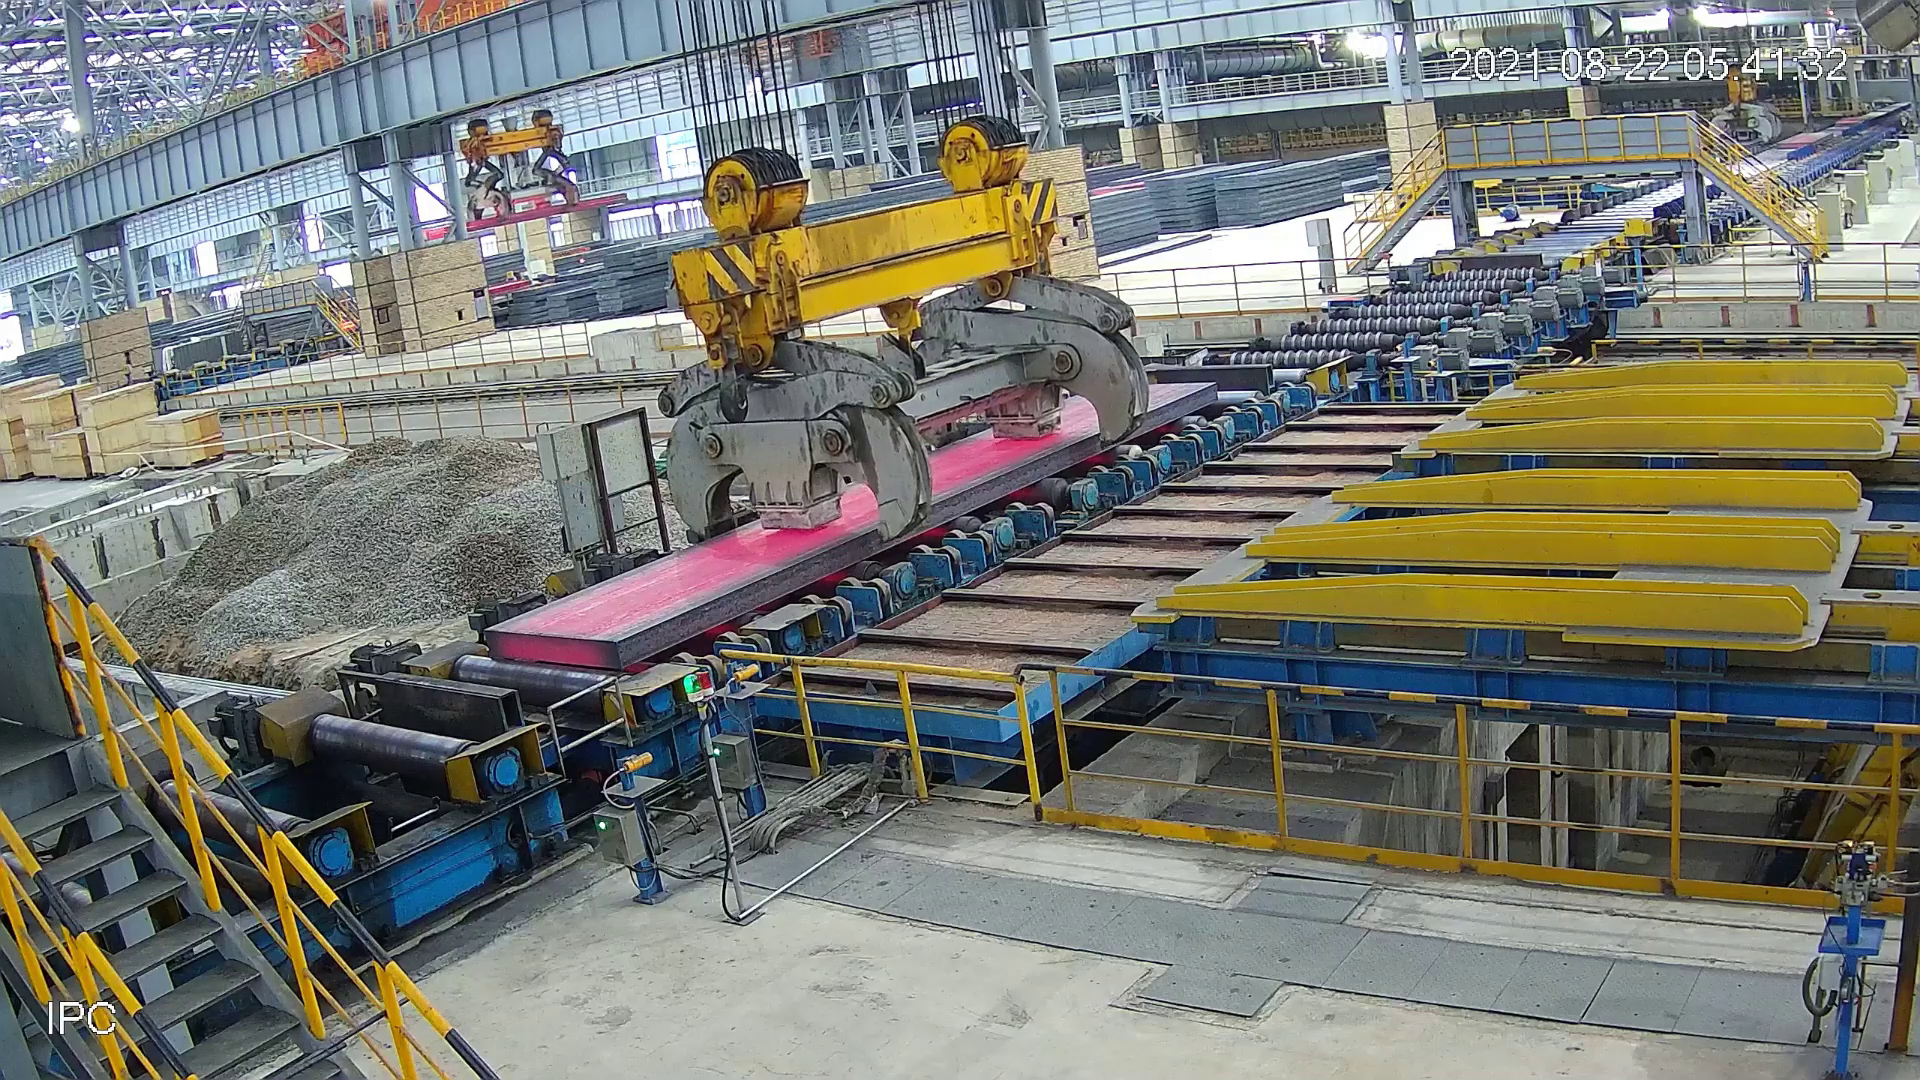craneandslab: (467, 112, 1226, 684), (1704, 50, 1785, 146)
